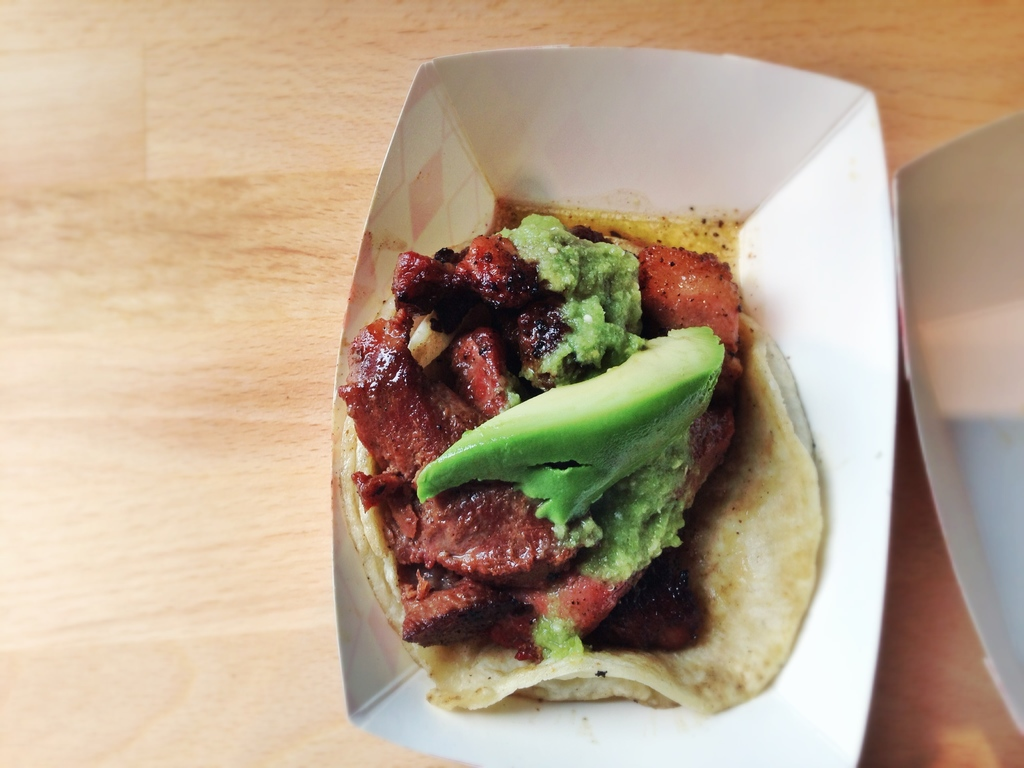taco: (338, 209, 825, 719)
